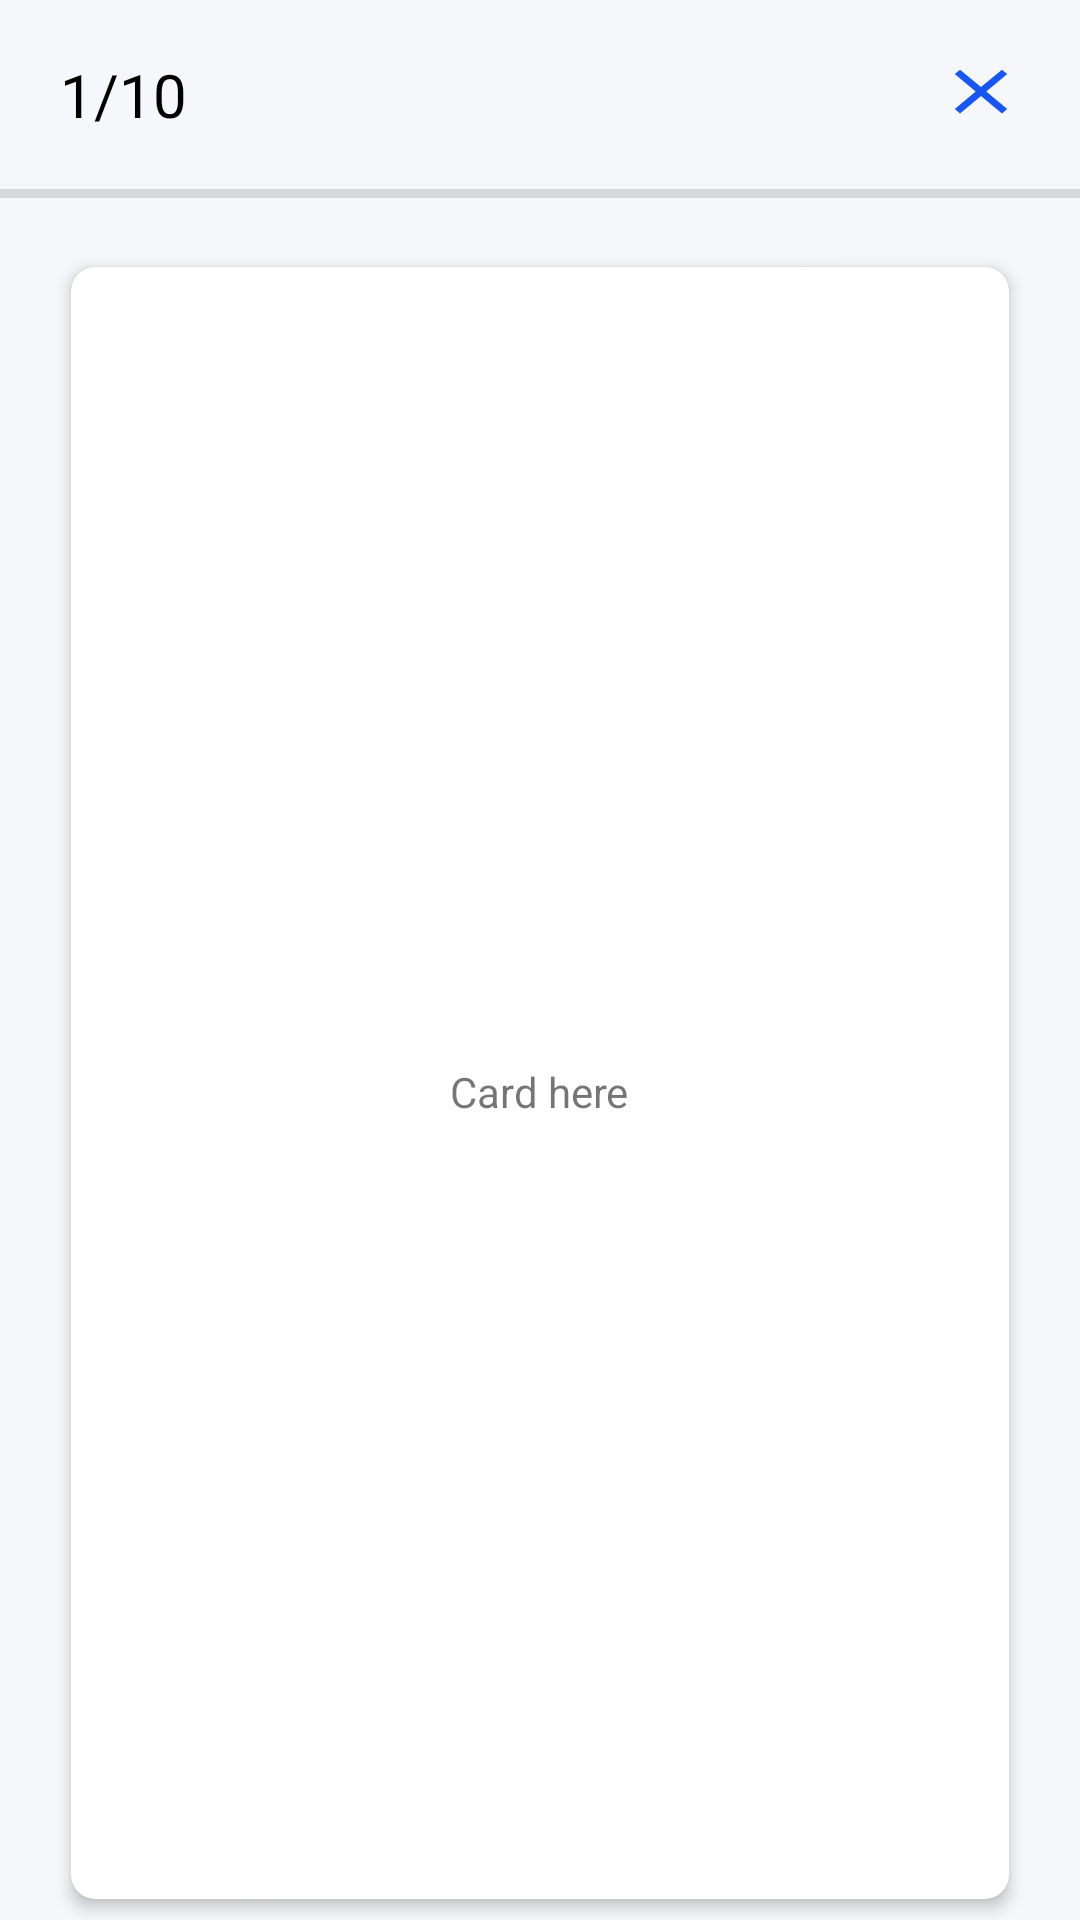

Where to tap for icons on this 1080x1920 app screen, as [x,y]:
close: [981,92]
